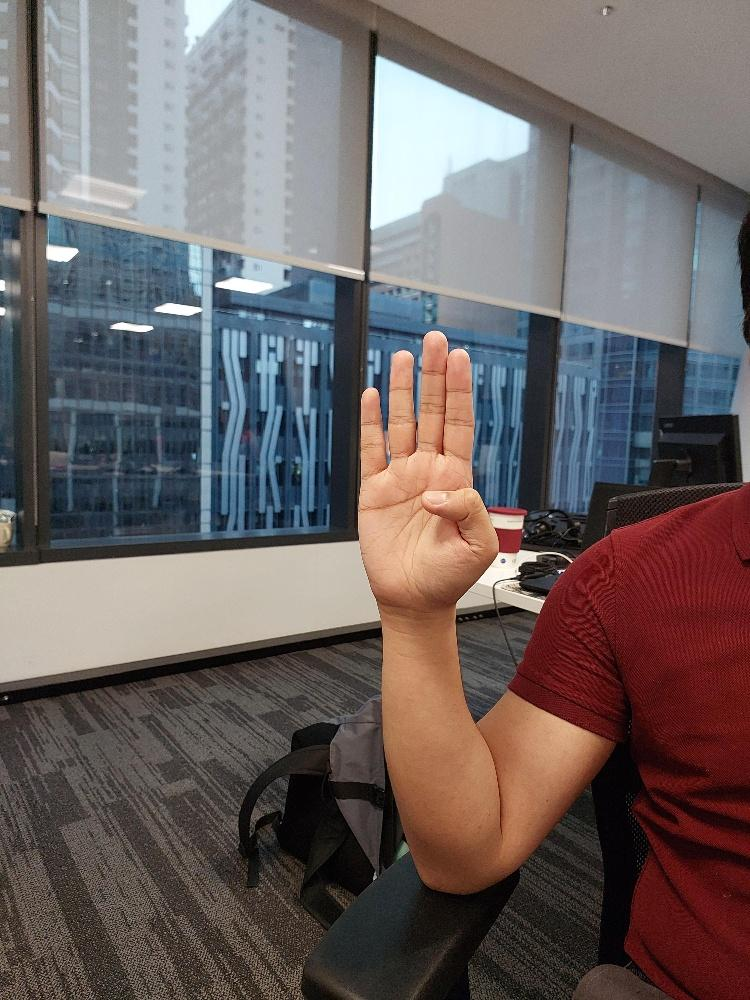b: (355, 326, 501, 615)
